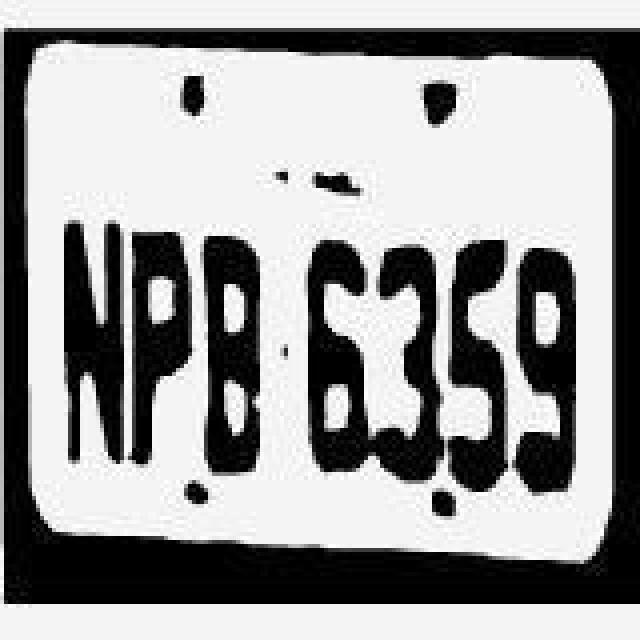3: (374, 230, 442, 490)
5: (446, 230, 514, 498)
6: (300, 218, 372, 486)
9: (518, 232, 586, 504)
B: (200, 222, 272, 482)
N: (52, 212, 124, 476)
P: (126, 220, 194, 476)
